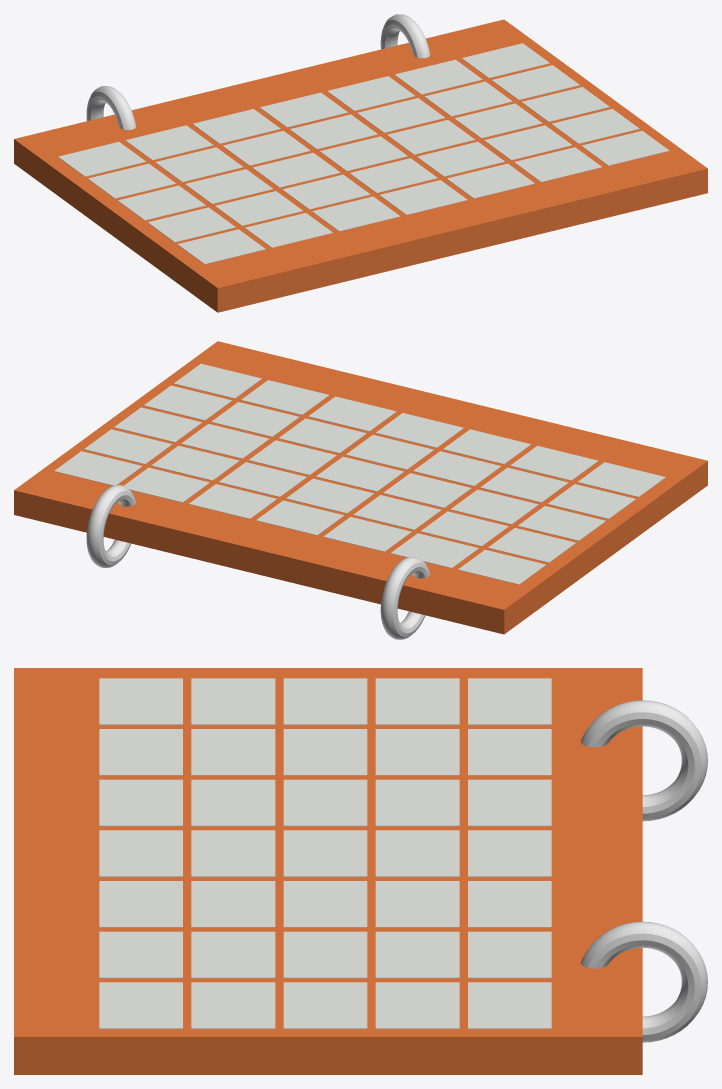
Rendered from Calendar.fbx.
3 renders of one model, top to bottom at view 1: azimuth 30°, elevation 25°; view 2: azimuth 150°, elevation 25°; view 3: azimuth 270°, elevation 25°, orthographic. The views are drawn at different scales.
Visible parts, largest first — view 1: CalendarDates, CalandarBase, CalendarHooks; view 2: CalendarDates, CalandarBase, CalendarHooks; view 3: CalendarDates, CalandarBase, CalendarHooks.
Part boxes in pixels (<box>): CalendarDates: <box>58,43,669,264</box>; CalandarBase: <box>14,19,707,312</box>; CalendarHooks: <box>86,14,430,130</box>; CalendarDates: <box>54,363,665,584</box>; CalandarBase: <box>14,341,707,634</box>; CalendarHooks: <box>86,485,430,639</box>; CalendarDates: <box>99,678,551,1028</box>; CalandarBase: <box>14,668,642,1074</box>; CalendarHooks: <box>580,700,707,1042</box>.
Bounding box in the file's own units: 250 × 37.5 × 199.
